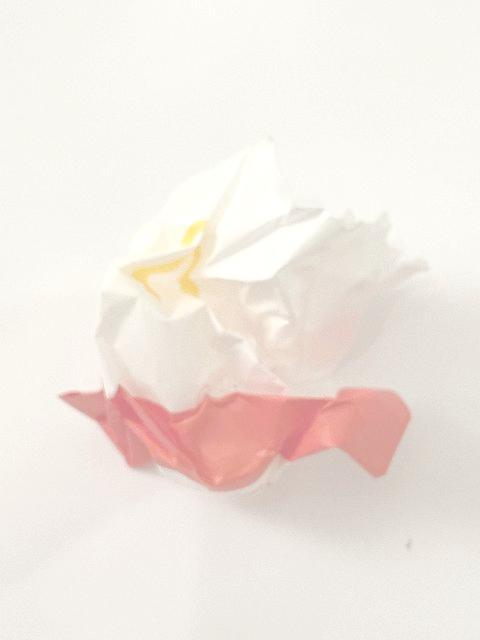paperbag: (57, 138, 433, 498)
